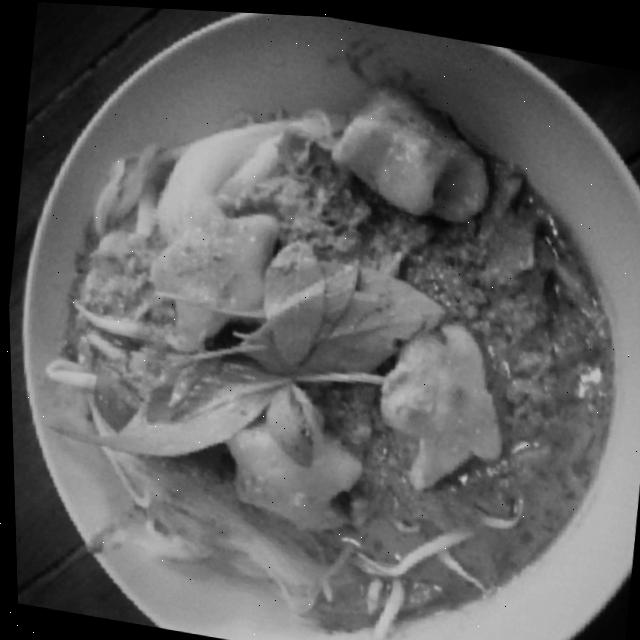面条主食: (3, 12, 640, 640)
